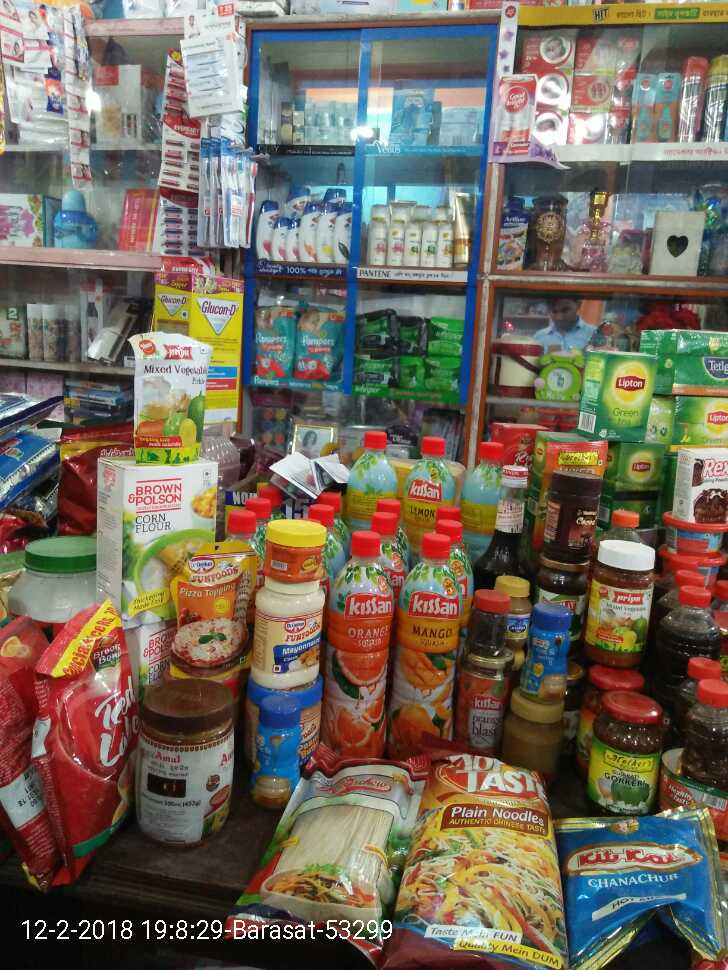venus: (393, 77, 440, 141), (440, 104, 484, 141)
